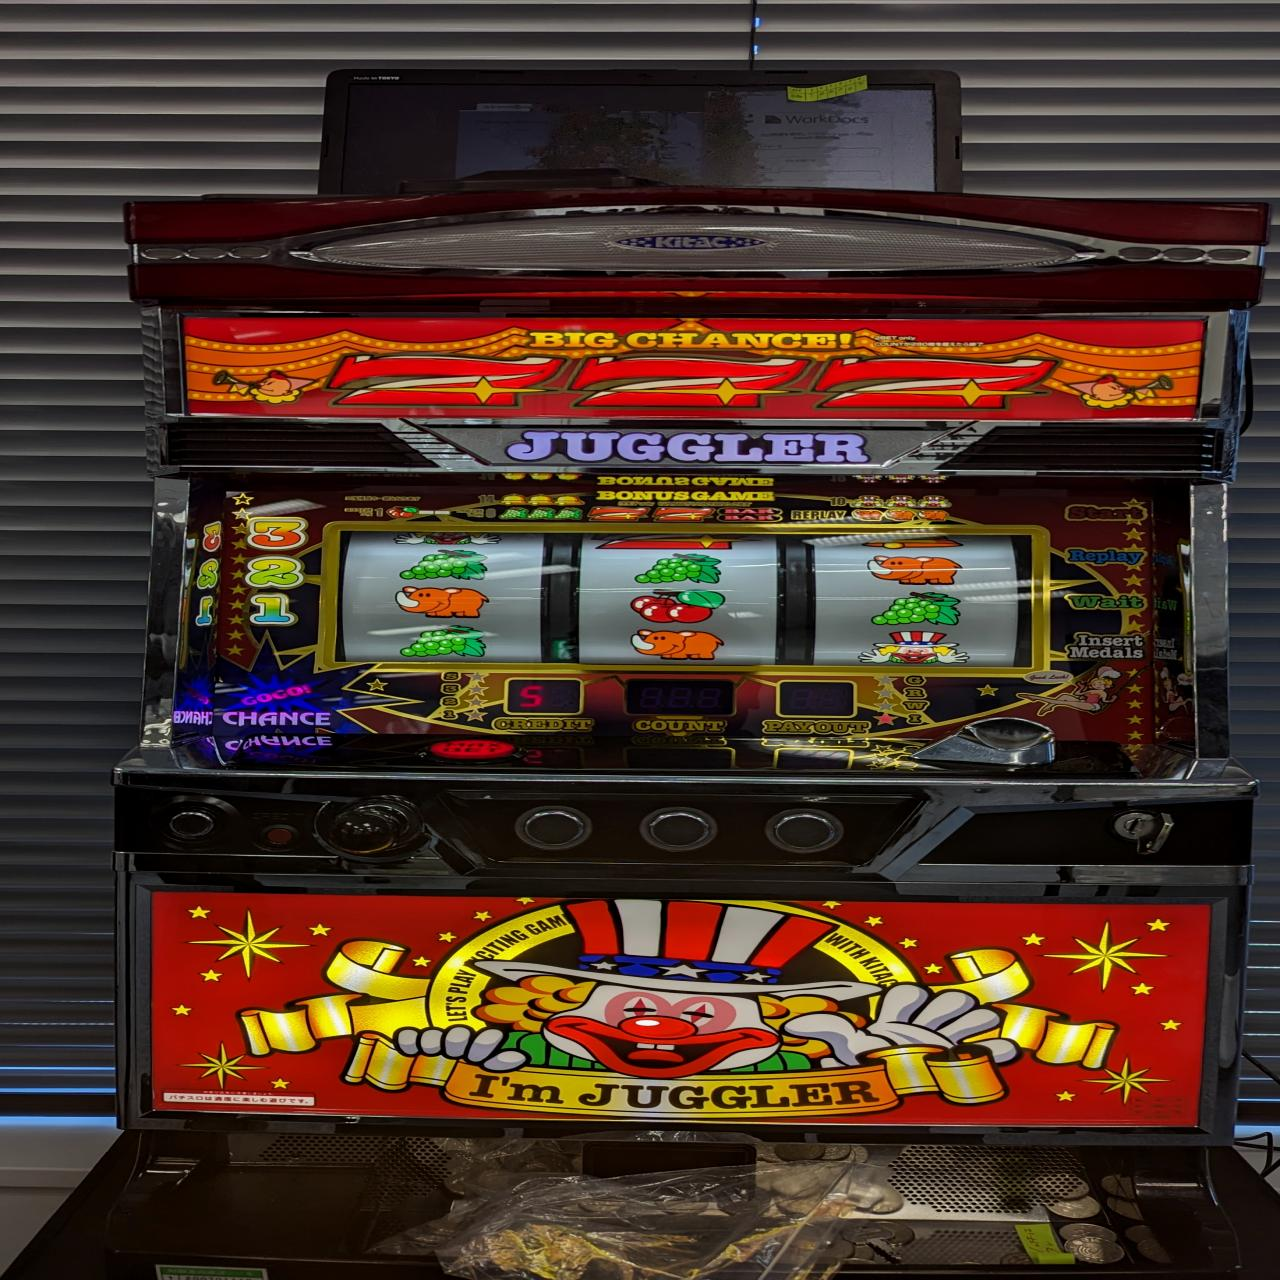Display: (326, 523, 1049, 674)
cherry: (627, 588, 727, 624)
clown: (857, 631, 972, 668)
grape: (869, 590, 964, 626), (400, 621, 491, 659), (395, 549, 492, 581), (631, 553, 723, 584)
rhino: (395, 586, 492, 618), (632, 628, 723, 661), (866, 556, 964, 586)
